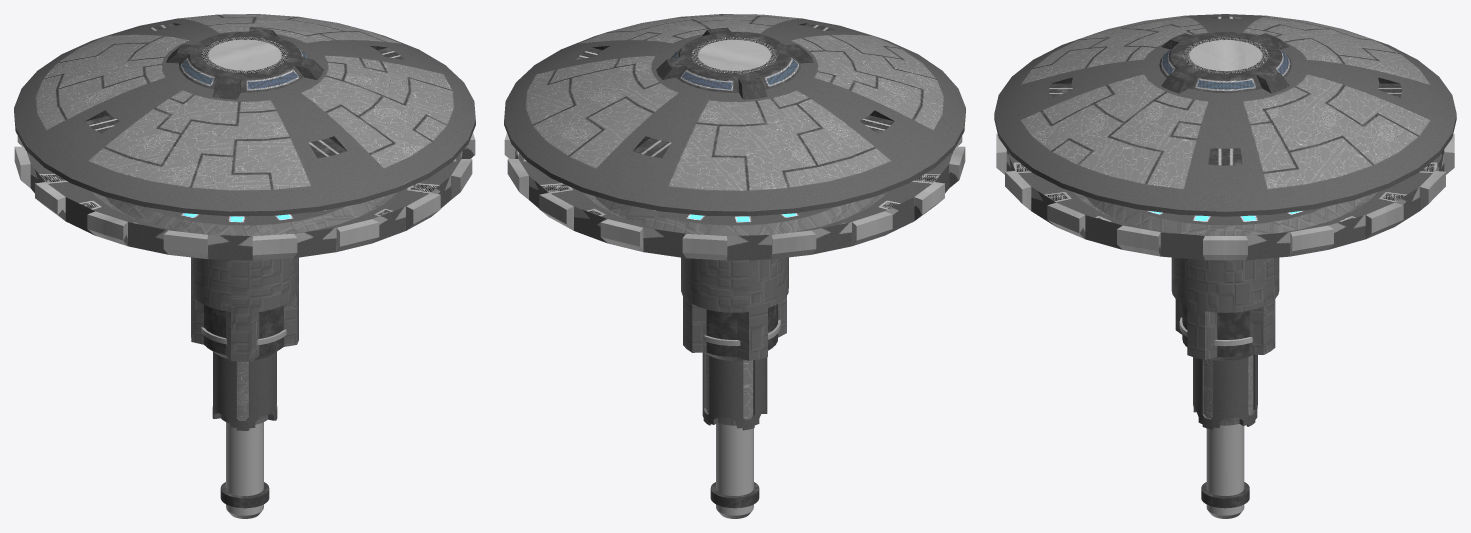
Rendered from station03_base.glb.
3 renders of one model, left to right at view 1: azimuth 30°, elevation 25°; view 2: azimuth 150°, elevation 25°; view 3: azimuth 270°, elevation 25°, orthographic.
Visible parts, largest first — view 1: Mesh_LP_cylinder1_default; view 2: Mesh_LP_cylinder1_default; view 3: Mesh_LP_cylinder1_default.
Boxes of the visible parts, x1,y1,x2,y2 form: Mesh_LP_cylinder1_default: (14, 14, 475, 518); Mesh_LP_cylinder1_default: (504, 14, 965, 518); Mesh_LP_cylinder1_default: (994, 14, 1456, 518).
Size of the model in its own units: 17.15 by 18.7 by 17.15.
Materials: 1 (1 with a texture image).
